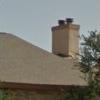Chimney: (42, 12, 88, 65)
